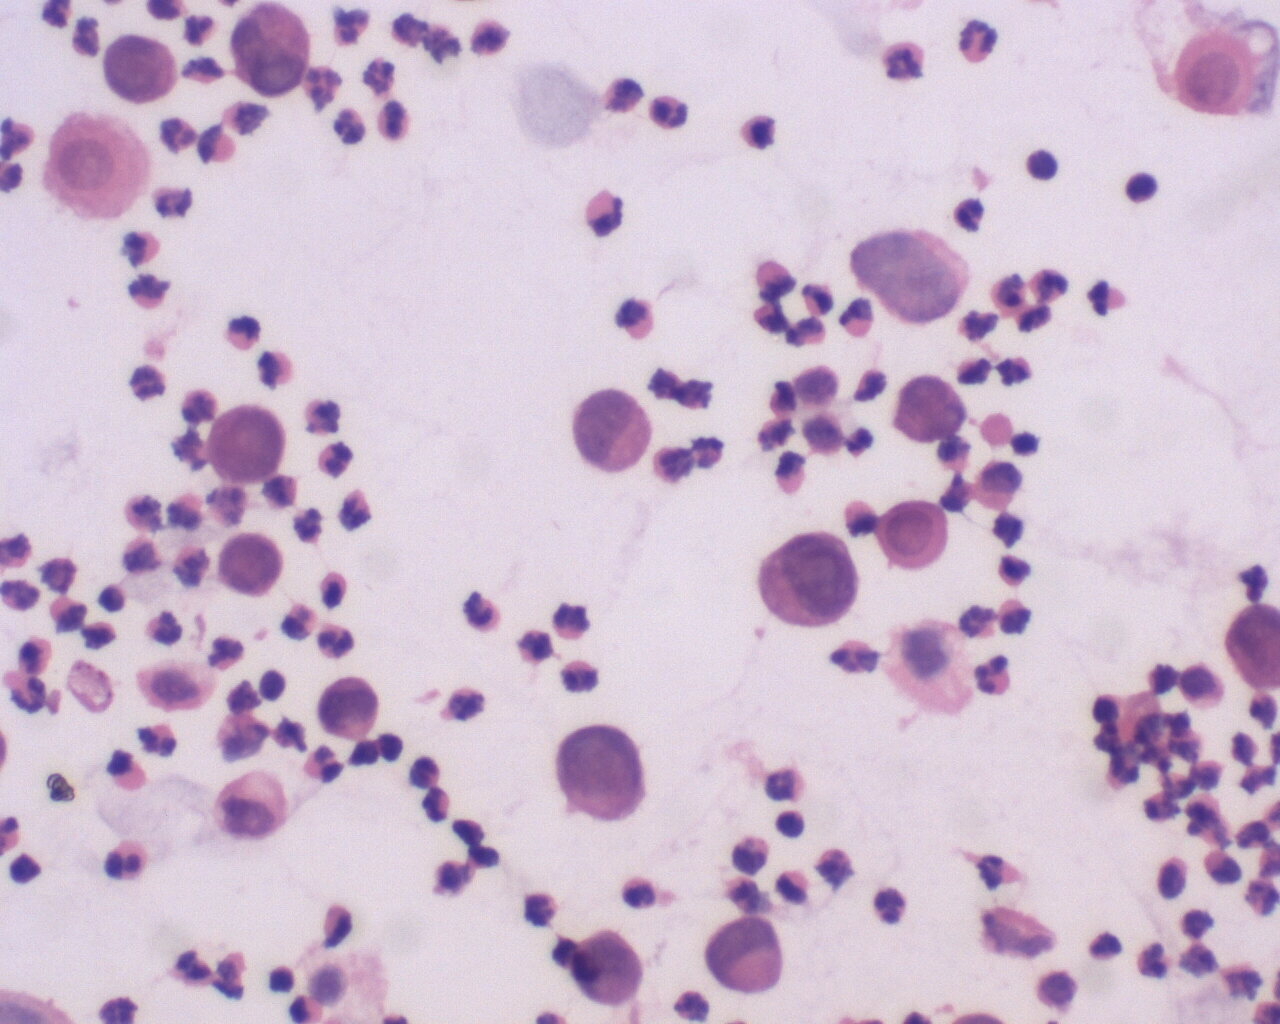ab: (754, 522, 867, 630), (553, 716, 651, 827), (200, 398, 293, 489), (229, 3, 313, 98), (865, 494, 959, 577), (571, 383, 653, 475), (703, 916, 788, 997), (102, 28, 178, 110), (894, 369, 973, 443), (211, 529, 285, 603), (316, 667, 381, 742)
lymph: (257, 661, 294, 706), (1026, 145, 1064, 188), (1125, 166, 1165, 206), (773, 807, 808, 842)
meso: (39, 107, 152, 223), (1169, 28, 1258, 119)
neutro: (876, 34, 929, 88), (764, 757, 814, 809), (866, 880, 915, 933), (103, 833, 152, 887), (968, 653, 1020, 702), (453, 584, 504, 634), (311, 624, 363, 668), (1025, 261, 1074, 306), (326, 104, 370, 150), (618, 872, 664, 913), (953, 189, 990, 237), (649, 87, 690, 130), (315, 439, 356, 479), (420, 785, 457, 828), (1136, 940, 1176, 979)
